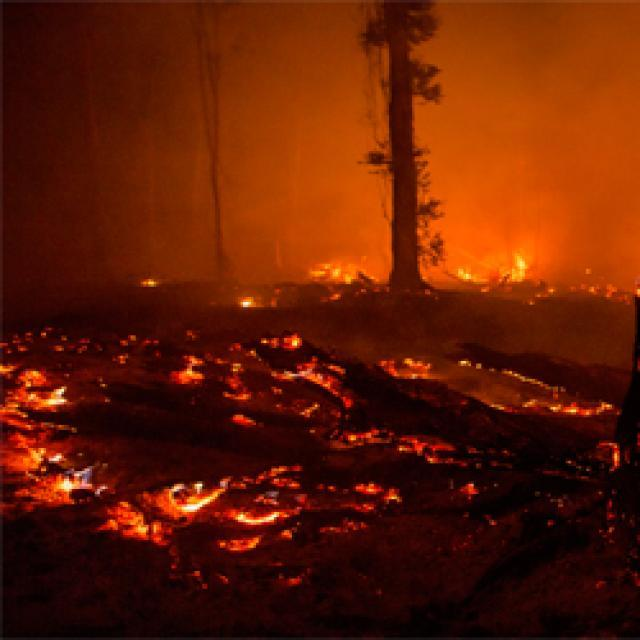Fire: (221, 256, 365, 458), (373, 316, 638, 418), (156, 464, 378, 584), (0, 340, 108, 528), (330, 409, 552, 494), (90, 487, 238, 590), (153, 333, 274, 439), (587, 426, 640, 550), (433, 246, 546, 303), (331, 462, 423, 530), (560, 557, 640, 617), (298, 246, 392, 292), (264, 546, 318, 608), (441, 467, 507, 514), (132, 254, 192, 289), (228, 290, 286, 312)
Smoke: (43, 0, 640, 315)
